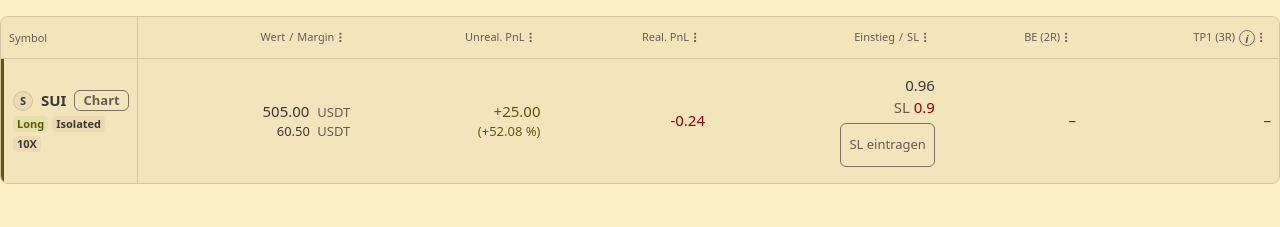
Test: Ursprünglichen SL eintragen: Eingabe › zeigt den Serverfehler (422) und lässt das Feld offen
This screenshot has width=1280, height=227.
Click the button "SL eintragen" at (888,144), box x1=840 y1=122 x2=935 y2=166
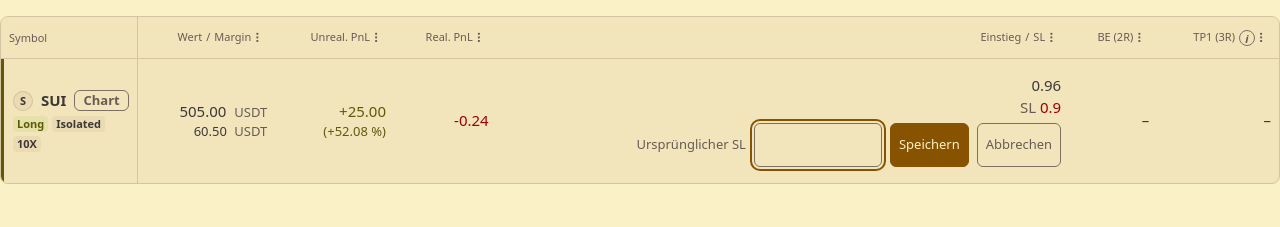
Type "0.9" into the field labelled "Ursprünglicher SL" at (818,144), box x1=754 y1=122 x2=882 y2=166
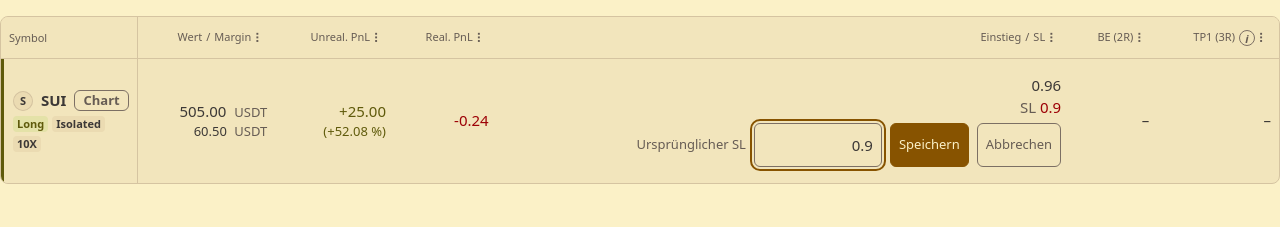
Click the button "Speichern" at (929,144), box x1=890 y1=122 x2=969 y2=166
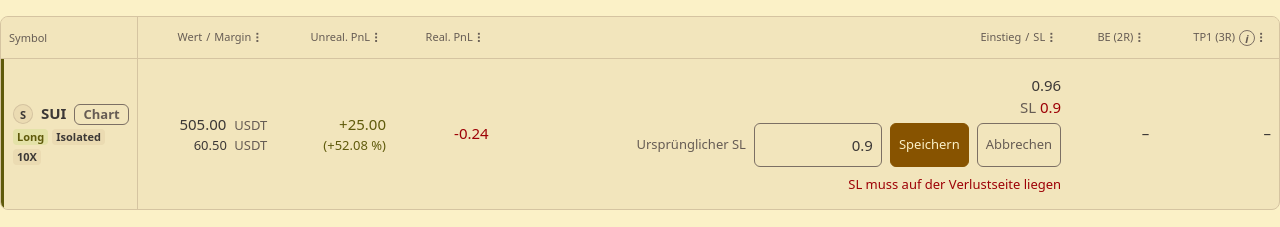
Check: the message reads "SL muss auf der Verlustseite liegen", box x1=848 y1=174 x2=1061 y2=192
